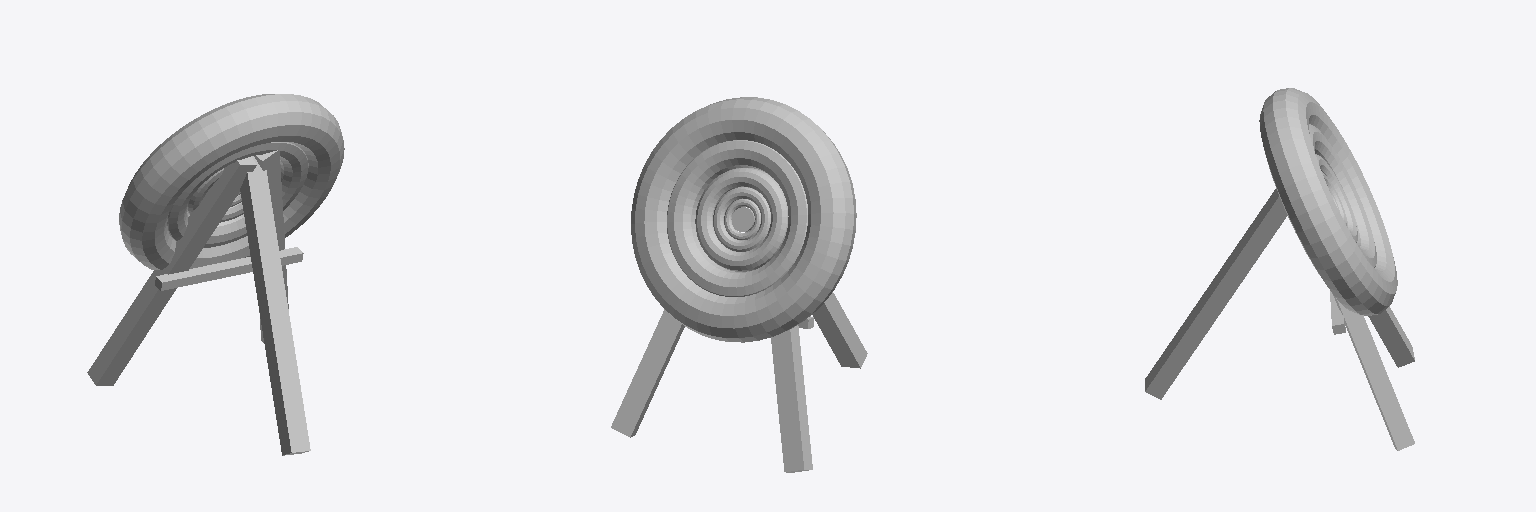
The model's file is terc.obj.
The picture shows the model from 3 angles: view 1: azimuth 30°, elevation 25°; view 2: azimuth 150°, elevation 25°; view 3: azimuth 270°, elevation 25°; orthographic projection.
Visible parts, largest first — view 1: terc_Torus.001; view 2: terc_Torus.001; view 3: terc_Torus.001.
Boxes of the visible parts, <box> form: terc_Torus.001: <box>87,94,344,455</box>; terc_Torus.001: <box>611,97,867,472</box>; terc_Torus.001: <box>1145,88,1414,450</box>.
Bounding box in the file's own units: 0.6281 × 0.877 × 0.6901.